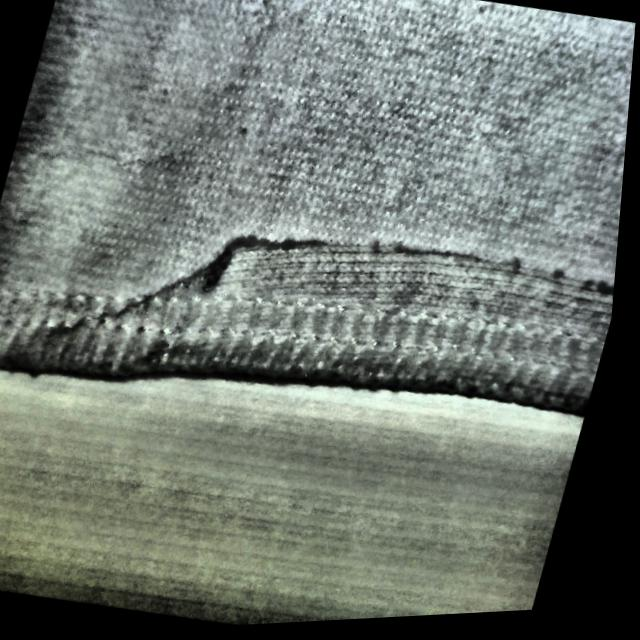seam: (145, 158, 628, 442)
